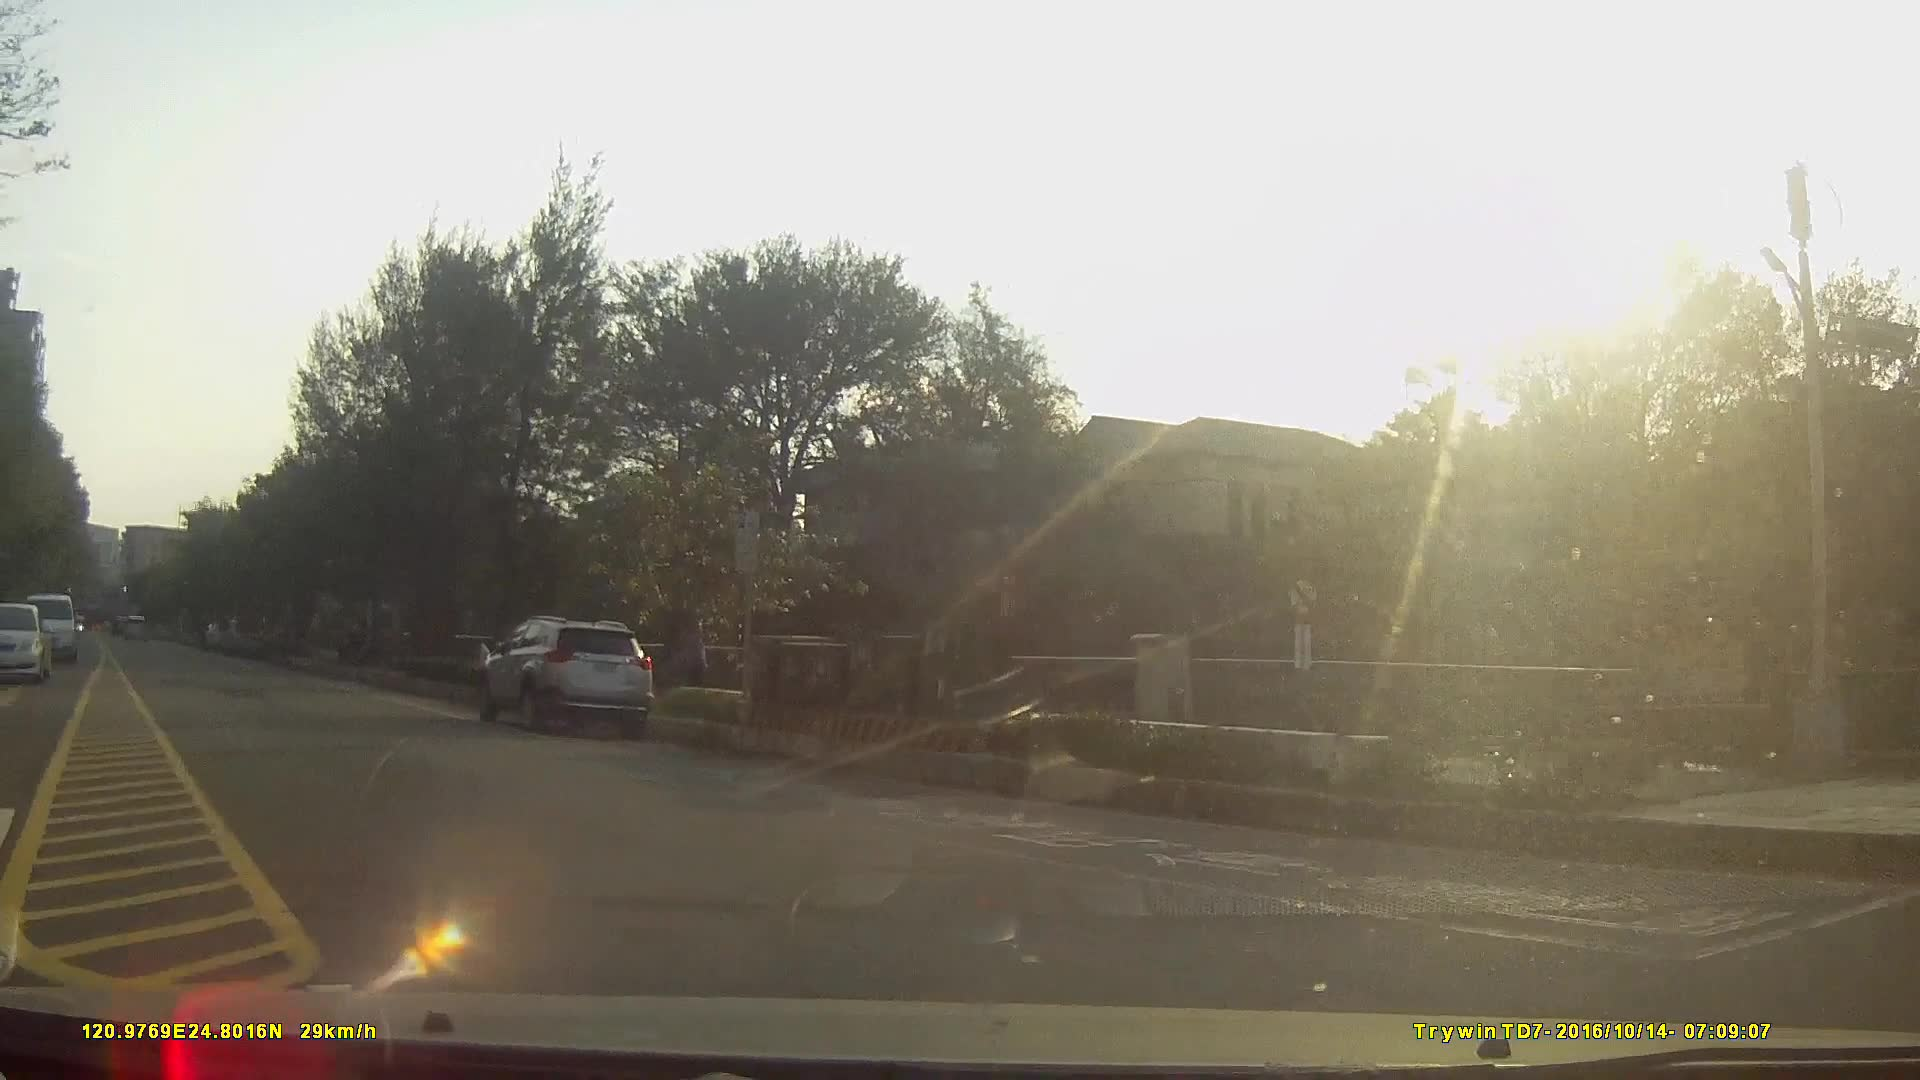vehicle: (473, 617, 655, 733), (18, 593, 78, 667), (0, 601, 46, 684)
